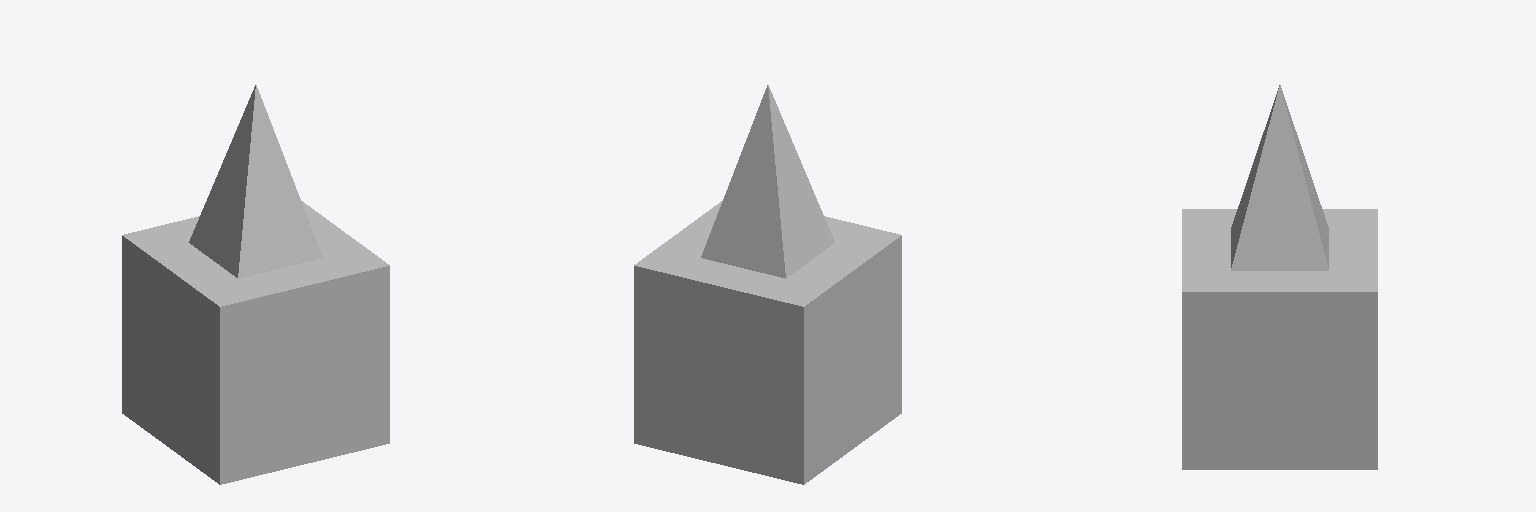
File: testObj.obj
The picture shows the model from 3 angles: view 1: azimuth 30°, elevation 25°; view 2: azimuth 150°, elevation 25°; view 3: azimuth 270°, elevation 25°; orthographic projection.
Parts seen in each view (by area): view 1: Cube; view 2: Cube; view 3: Cube.
Part boxes in pixels (bbox=[...]): Cube: bbox=[122, 85, 389, 484]; Cube: bbox=[634, 85, 901, 484]; Cube: bbox=[1182, 85, 1377, 469].
Size of the model in its own units: 2 by 3.87 by 2.